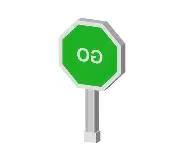Go: (60, 18, 125, 90)
